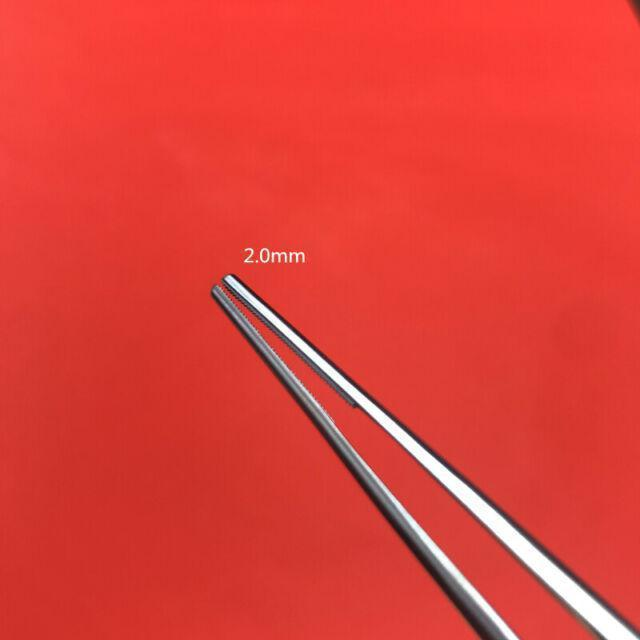Forceps: (205, 268, 640, 640)
